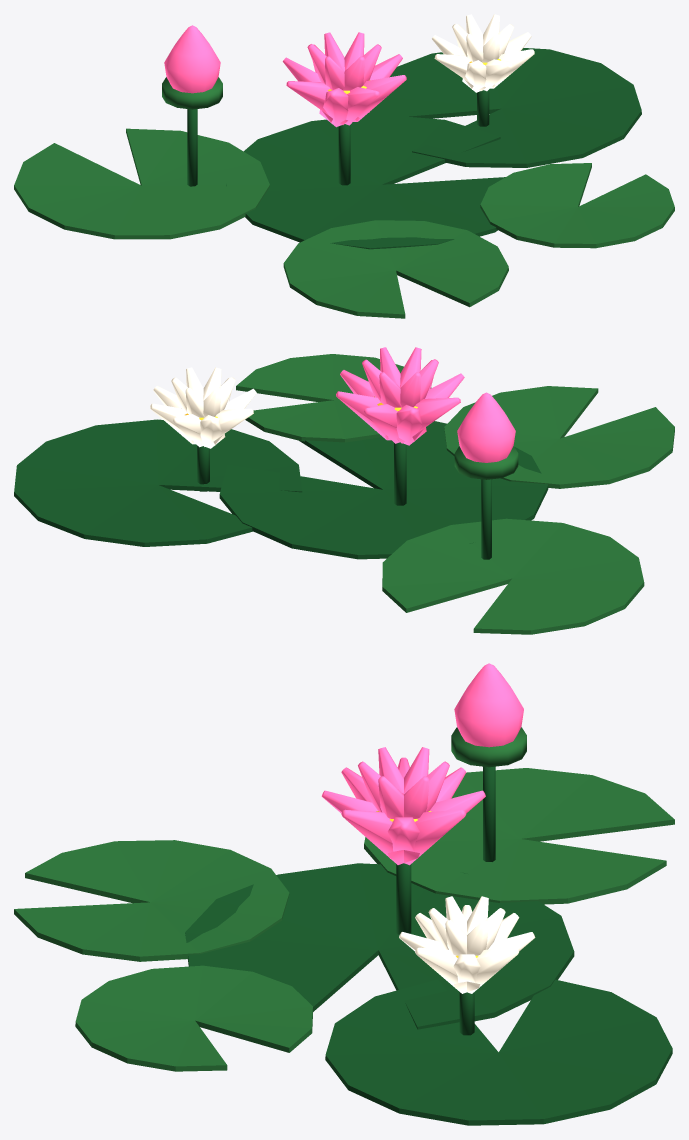
File: cum_hoa_sen_ho.glb
3 renders of one model, top to bottom at view 1: azimuth 30°, elevation 25°; view 2: azimuth 150°, elevation 25°; view 3: azimuth 270°, elevation 25°, orthographic. The views are drawn at different scales.
Parts seen in each view (by area): view 1: cum_hoa_sen_ho; view 2: cum_hoa_sen_ho; view 3: cum_hoa_sen_ho.
Part boxes in pixels (x1,y1,x2,y2): cum_hoa_sen_ho: (14,14,674,318); cum_hoa_sen_ho: (14,347,674,634); cum_hoa_sen_ho: (14,663,674,1125).
Size of the model in its own units: 2.62 by 0.7273 by 2.09.
